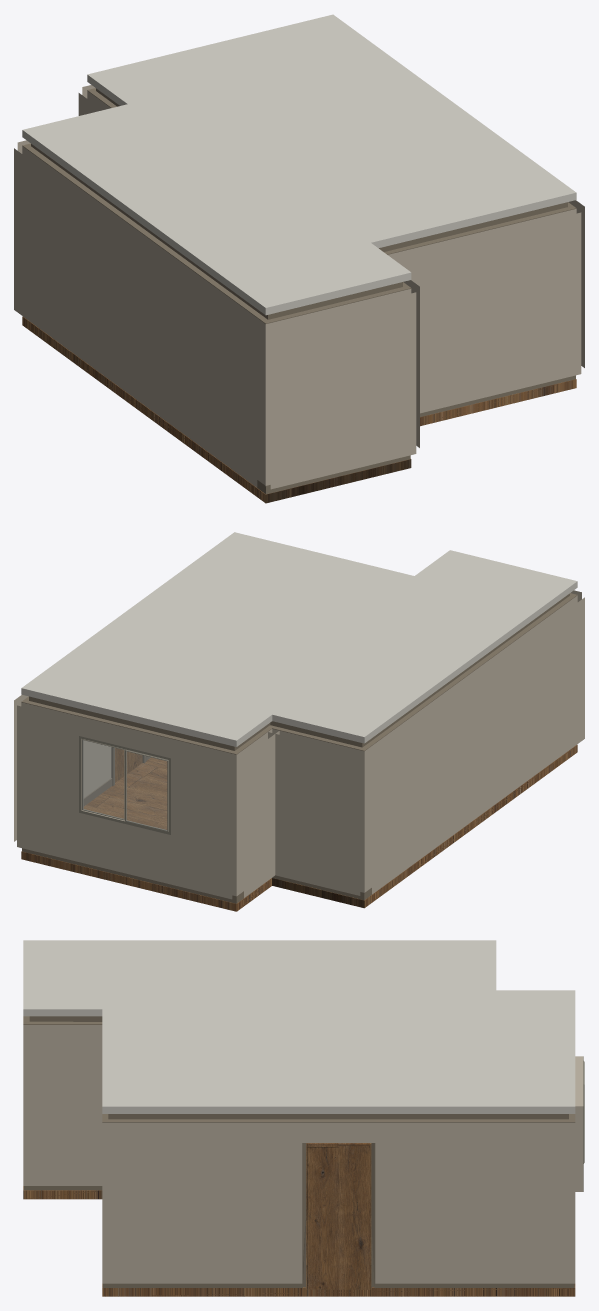
The model's file is bedroom_blankv2.fbx.
3 views of the same model, one above another, from view 1: azimuth 30°, elevation 25°; view 2: azimuth 150°, elevation 25°; view 3: azimuth 270°, elevation 25° (orthographic). The views are drawn at different scales.
Parts seen in each view (by area): view 1: Ceiling, Wall_Left, Wall_Front, Wall_Front_Alcove, Crown_Moulding, Floor, Skirting_Boards, Wall_Front_Alcove_Side, Wall_Right_Door; view 2: Ceiling, Wall_Left, Wall_Rear_Window, Wall_Rear_Alcove, Floor, Wall_Rear_Alcove_Side, Crown_Moulding, Window_Glass_Right, Window_Glass_Left, Wall_Right_Door, Skirting_Boards, Window_Outer_Frame (+1 smaller); view 3: Ceiling, Wall_Right_Door, Wall_Front_Alcove_Side, Door, Floor, Crown_Moulding, Skirting_Boards, Door_Frame, Window_Reveal.
Part boxes in pixels (left/top/right/bottom): Ceiling: left=22, top=14, right=576, bottom=315; Wall_Left: left=14, top=146, right=265, bottom=487; Wall_Front: left=388, top=209, right=581, bottom=413; Wall_Front_Alcove: left=265, top=289, right=416, bottom=489; Crown_Moulding: left=22, top=88, right=576, bottom=323; Floor: left=22, top=316, right=576, bottom=503; Skirting_Boards: left=39, top=328, right=575, bottom=494; Wall_Front_Alcove_Side: left=403, top=280, right=419, bottom=447; Wall_Right_Door: left=568, top=200, right=584, bottom=367; Ceiling: left=21, top=532, right=577, bottom=746; Wall_Left: left=364, top=595, right=584, bottom=894; Wall_Rear_Window: left=17, top=702, right=236, bottom=899; Wall_Rear_Alcove: left=268, top=729, right=364, bottom=895; Floor: left=21, top=744, right=577, bottom=911; Wall_Rear_Alcove_Side: left=236, top=729, right=279, bottom=897; Crown_Moulding: left=21, top=593, right=577, bottom=754; Window_Glass_Right: left=83, top=740, right=123, bottom=819; Window_Glass_Left: left=126, top=751, right=166, bottom=830; Wall_Right_Door: left=14, top=695, right=111, bottom=841; Skirting_Boards: left=22, top=756, right=558, bottom=903; Window_Outer_Frame: left=79, top=736, right=170, bottom=834; Ceiling: left=23, top=940, right=575, bottom=1113; Wall_Right_Door: left=102, top=1122, right=575, bottom=1283; Wall_Front_Alcove_Side: left=23, top=1025, right=102, bottom=1185; Door: left=306, top=1143, right=371, bottom=1289; Floor: left=23, top=1186, right=575, bottom=1296; Crown_Moulding: left=23, top=1016, right=575, bottom=1122; Skirting_Boards: left=24, top=1186, right=574, bottom=1287; Door_Frame: left=302, top=1143, right=375, bottom=1288; Window_Reveal: left=575, top=1056, right=582, bottom=1191.
Bounding box in the file's own units: 524 × 266 × 724.
Materials: 7 (2 with a texture image).
